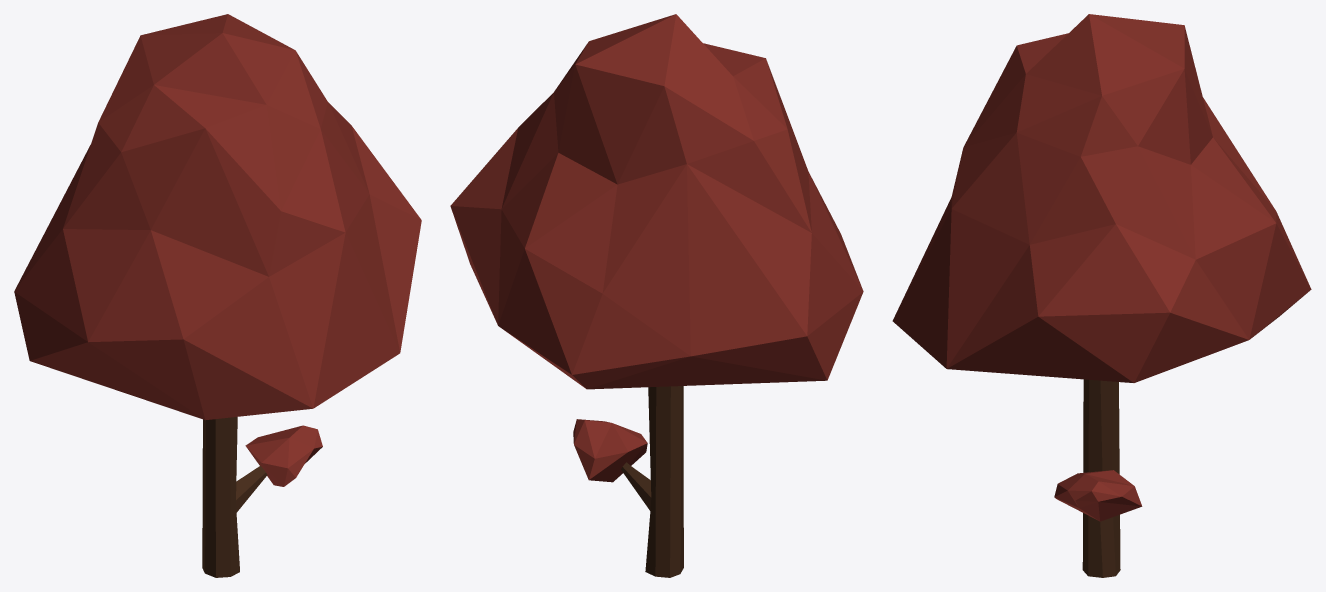
Rendered from Tree_45_Red.fbx.
3 views of the same model, side by side, from view 1: azimuth 30°, elevation 25°; view 2: azimuth 150°, elevation 25°; view 3: azimuth 270°, elevation 25° (orthographic).
Visible parts, largest first — view 1: Tree_45_Red_Part_1, Tree_45_Red_Part_3, Tree_45_Red_Part_2; view 2: Tree_45_Red_Part_1, Tree_45_Red_Part_3, Tree_45_Red_Part_2; view 3: Tree_45_Red_Part_1, Tree_45_Red_Part_3, Tree_45_Red_Part_2.
Part boxes in pixels (box(x1,y1,x2,y2)): Tree_45_Red_Part_1: box(14, 14, 421, 420); Tree_45_Red_Part_3: box(202, 417, 267, 577); Tree_45_Red_Part_2: box(245, 425, 322, 486); Tree_45_Red_Part_1: box(450, 14, 863, 389); Tree_45_Red_Part_3: box(621, 386, 683, 577); Tree_45_Red_Part_2: box(573, 419, 647, 482); Tree_45_Red_Part_1: box(892, 14, 1311, 382); Tree_45_Red_Part_3: box(1082, 379, 1120, 577); Tree_45_Red_Part_2: box(1054, 470, 1142, 521).
Bounding box in the file's own units: 549 × 807 × 554.
